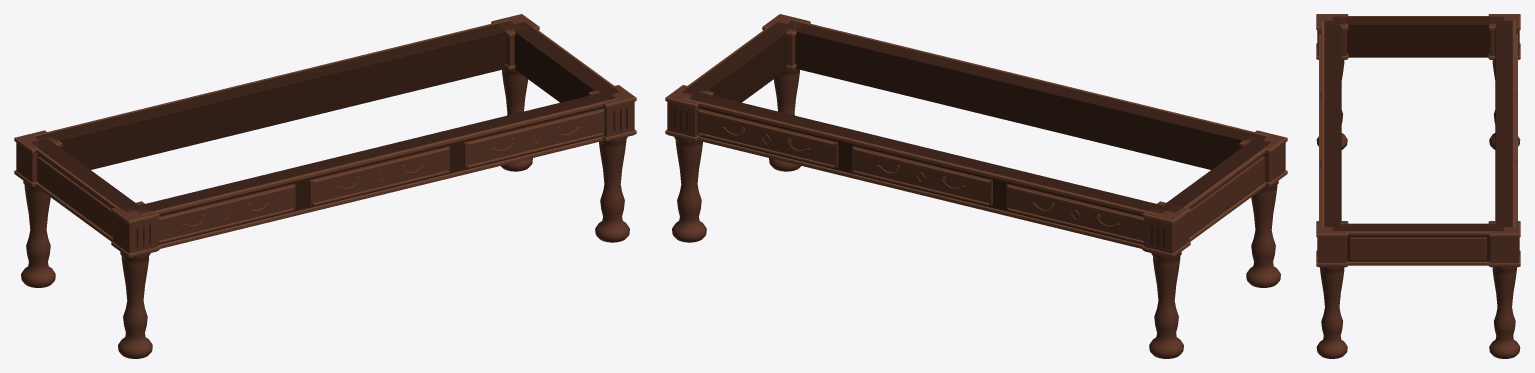
The model's file is DeskStructure.fbx.
3 views of the same model, side by side, from view 1: azimuth 30°, elevation 25°; view 2: azimuth 150°, elevation 25°; view 3: azimuth 270°, elevation 25° (orthographic). The views are drawn at different scales.
Parts seen in each view (by area): view 1: DD02_Apron_1, DD02_Apron_-1, DD02_EndApron_1, DD02_RaisedPanel_-1_2, DD02_RaisedPanel_-1_1, DD02_RaisedPanel_-1_0, DD02_ApronRail_(-1, 0.701), DD02_Leg_0_0_FootAndShaft, DD02_Leg_1_0_FootAndShaft, DD02_Leg_0_1_FootAndShaft, DD02_ApronRail_(-1, 0.529), DD02_EndPanel_-1 (+8 smaller); view 2: DD02_Apron_-1, DD02_Apron_1, DD02_EndApron_1, DD02_RaisedPanel_1_2, DD02_RaisedPanel_1_1, DD02_RaisedPanel_1_0, DD02_ApronRail_(1, 0.701), DD02_Leg_0_1_FootAndShaft, DD02_Leg_1_1_FootAndShaft, DD02_Leg_0_0_FootAndShaft, DD02_ApronRail_(1, 0.529), DD02_EndPanel_-1 (+8 smaller); view 3: DD02_EndApron_-1, DD02_Apron_-1, DD02_Apron_1, DD02_EndPanel_1, DD02_EndApron_1, DD02_Leg_1_0_FootAndShaft, DD02_Leg_1_1_FootAndShaft, DD02_Leg_1_0_FootAndShaft_Capital, DD02_Leg_1_1_FootAndShaft_Capital, DD02_ApronRail_(-1, 0.701), DD02_ApronRail_(1, 0.701), DD02_EndRail_(1, 0.7) (+7 smaller).
Part boxes in pixels (x1,y1,x2,y2): DD02_Apron_1: (35,20,519,169); DD02_Apron_-1: (131,91,615,244); DD02_EndApron_1: (510,22,619,102); DD02_RaisedPanel_-1_2: (463,108,604,167); DD02_RaisedPanel_-1_1: (309,146,450,205); DD02_RaisedPanel_-1_0: (157,184,295,242); DD02_ApronRail_(-1, 0.701): (141,98,617,215); DD02_Leg_0_0_FootAndShaft: (118,252,152,358); DD02_Leg_1_0_FootAndShaft: (595,136,629,242); DD02_Leg_0_1_FootAndShaft: (21,181,55,287); DD02_ApronRail_(-1, 0.529): (157,136,604,248); DD02_EndPanel_-1: (37,156,112,236); DD02_Apron_-1: (782,20,1266,169); DD02_Apron_1: (689,91,1170,244); DD02_EndApron_1: (682,22,792,102); DD02_RaisedPanel_1_2: (697,108,838,167); DD02_RaisedPanel_1_1: (851,146,992,205); DD02_RaisedPanel_1_0: (1006,184,1144,242); DD02_ApronRail_(1, 0.701): (684,98,1160,215); DD02_Leg_0_1_FootAndShaft: (1149,252,1183,358); DD02_Leg_1_1_FootAndShaft: (672,136,706,242); DD02_Leg_0_0_FootAndShaft: (1246,181,1280,287); DD02_ApronRail_(1, 0.529): (697,136,1144,248); DD02_EndPanel_-1: (1189,156,1264,236); DD02_EndApron_-1: (1333,16,1503,57); DD02_Apron_-1: (1324,20,1341,226); DD02_Apron_1: (1495,20,1512,226); DD02_EndPanel_1: (1350,237,1486,260); DD02_EndApron_1: (1333,223,1503,261); DD02_Leg_1_0_FootAndShaft: (1316,267,1347,358); DD02_Leg_1_1_FootAndShaft: (1489,267,1520,358); DD02_Leg_1_0_FootAndShaft_Capital: (1317,221,1346,267); DD02_Leg_1_1_FootAndShaft_Capital: (1490,221,1519,267); DD02_ApronRail_(-1, 0.701): (1321,20,1324,227); DD02_ApronRail_(1, 0.701): (1512,20,1515,227); DD02_EndRail_(1, 0.7): (1346,231,1490,235).
Size of the model in its own units: 266 by 71.05 by 104.
